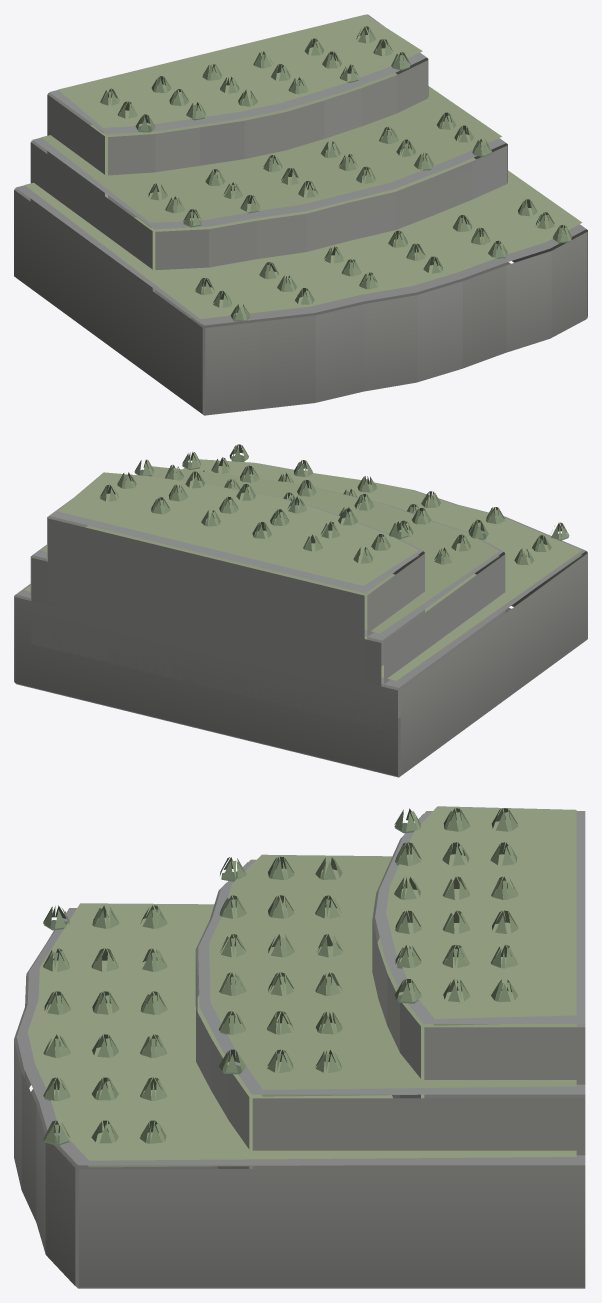
The model's file is iv_terrace.lod.glb.
3 views of the same model, one above another, from view 1: azimuth 30°, elevation 25°; view 2: azimuth 150°, elevation 25°; view 3: azimuth 270°, elevation 25° (orthographic). The views are drawn at different scales.
Visible parts, largest first — view 1: iv_terrace; view 2: iv_terrace; view 3: iv_terrace.
Part boxes in pixels (left/top/right/bottom): iv_terrace: left=14, top=14, right=587, bottom=415; iv_terrace: left=14, top=444, right=587, bottom=777; iv_terrace: left=14, top=806, right=585, bottom=1288.
Bounding box in the file's own units: 14 × 6.65 × 13.08.
